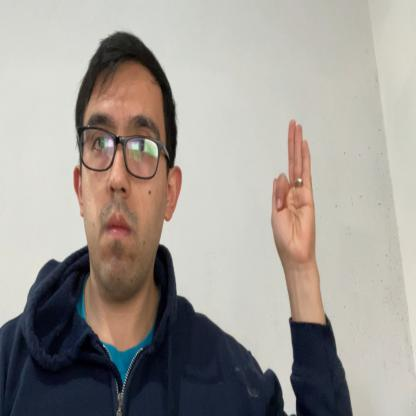F: (272, 119, 316, 263)
